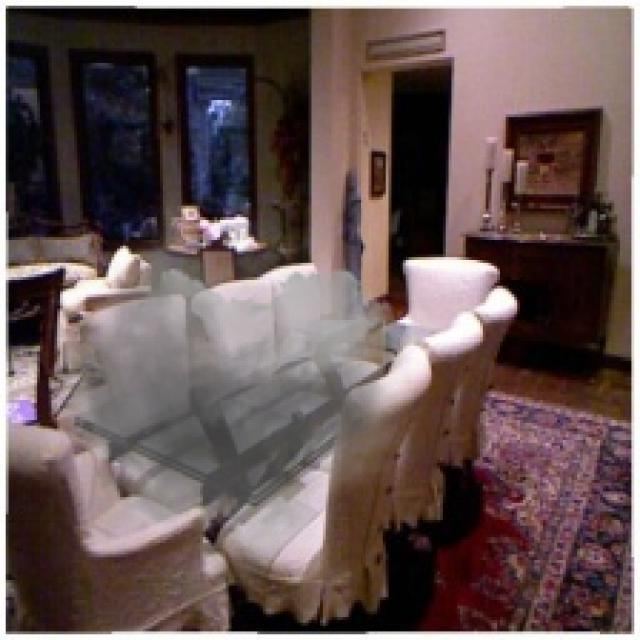Smoke: (40, 192, 417, 572)
